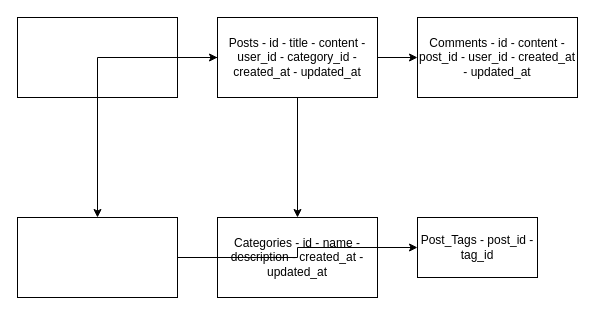
Some shapes in this 595 by 315 pixel diagram are drawn without their labels. The centre of each missing label's shape, as x and y in pixels:
"Tags - id - name - created_at - updated_at" goes at [97,257].
"Users - id - name - email - password - role - created_at - updated_at" goes at [97,57].
